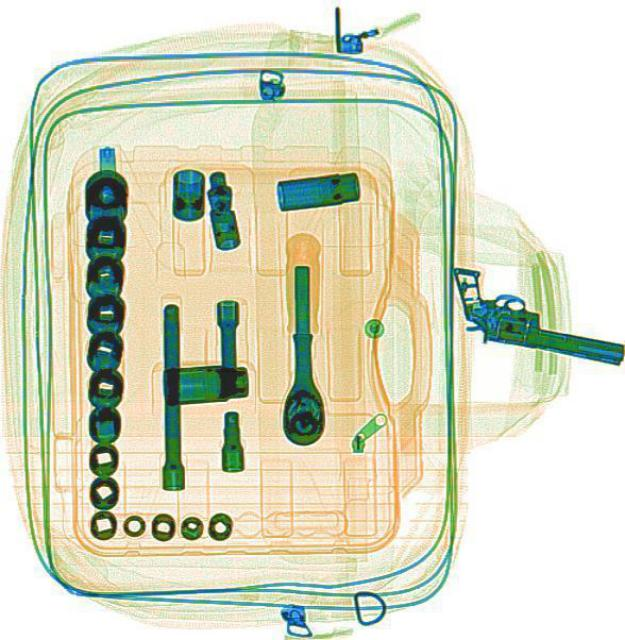Gun: (434, 263, 623, 365)
